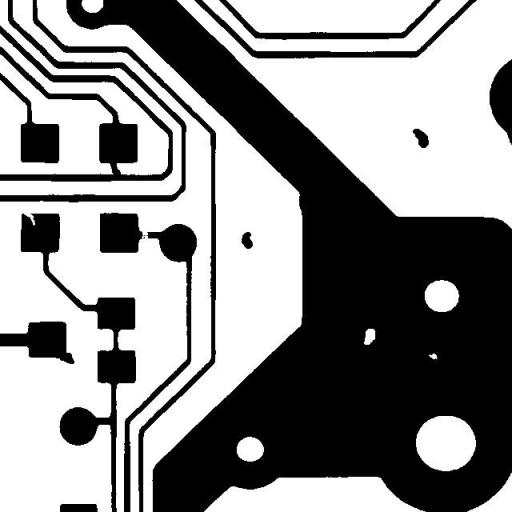copper: (405, 121, 436, 155), (234, 224, 260, 256)
mousebite: (16, 204, 42, 233)
open: (134, 221, 155, 247)
pin-hole: (356, 321, 382, 352), (421, 346, 445, 366)
short: (102, 150, 128, 182)
spur: (47, 345, 82, 371)
